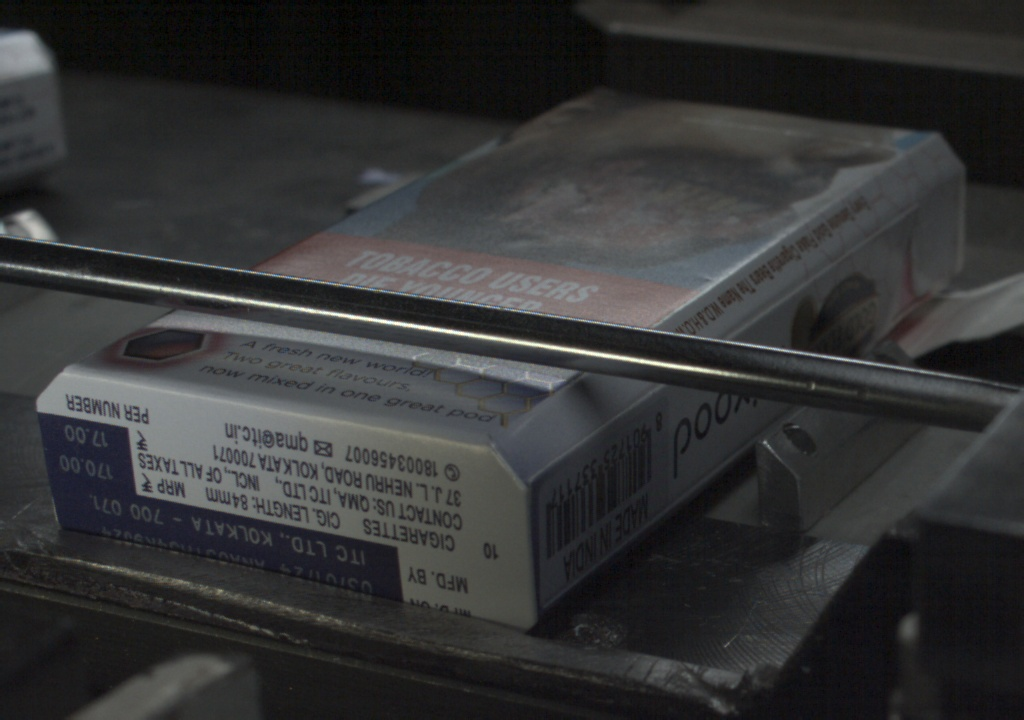g_bottom: (36, 371, 520, 630)
g_label: (49, 493, 401, 601)
g_lmiter: (724, 269, 824, 339), (824, 208, 908, 269), (525, 431, 592, 485), (592, 383, 662, 430)
ng_miter: (911, 156, 1016, 310)
price: (37, 420, 135, 492)
